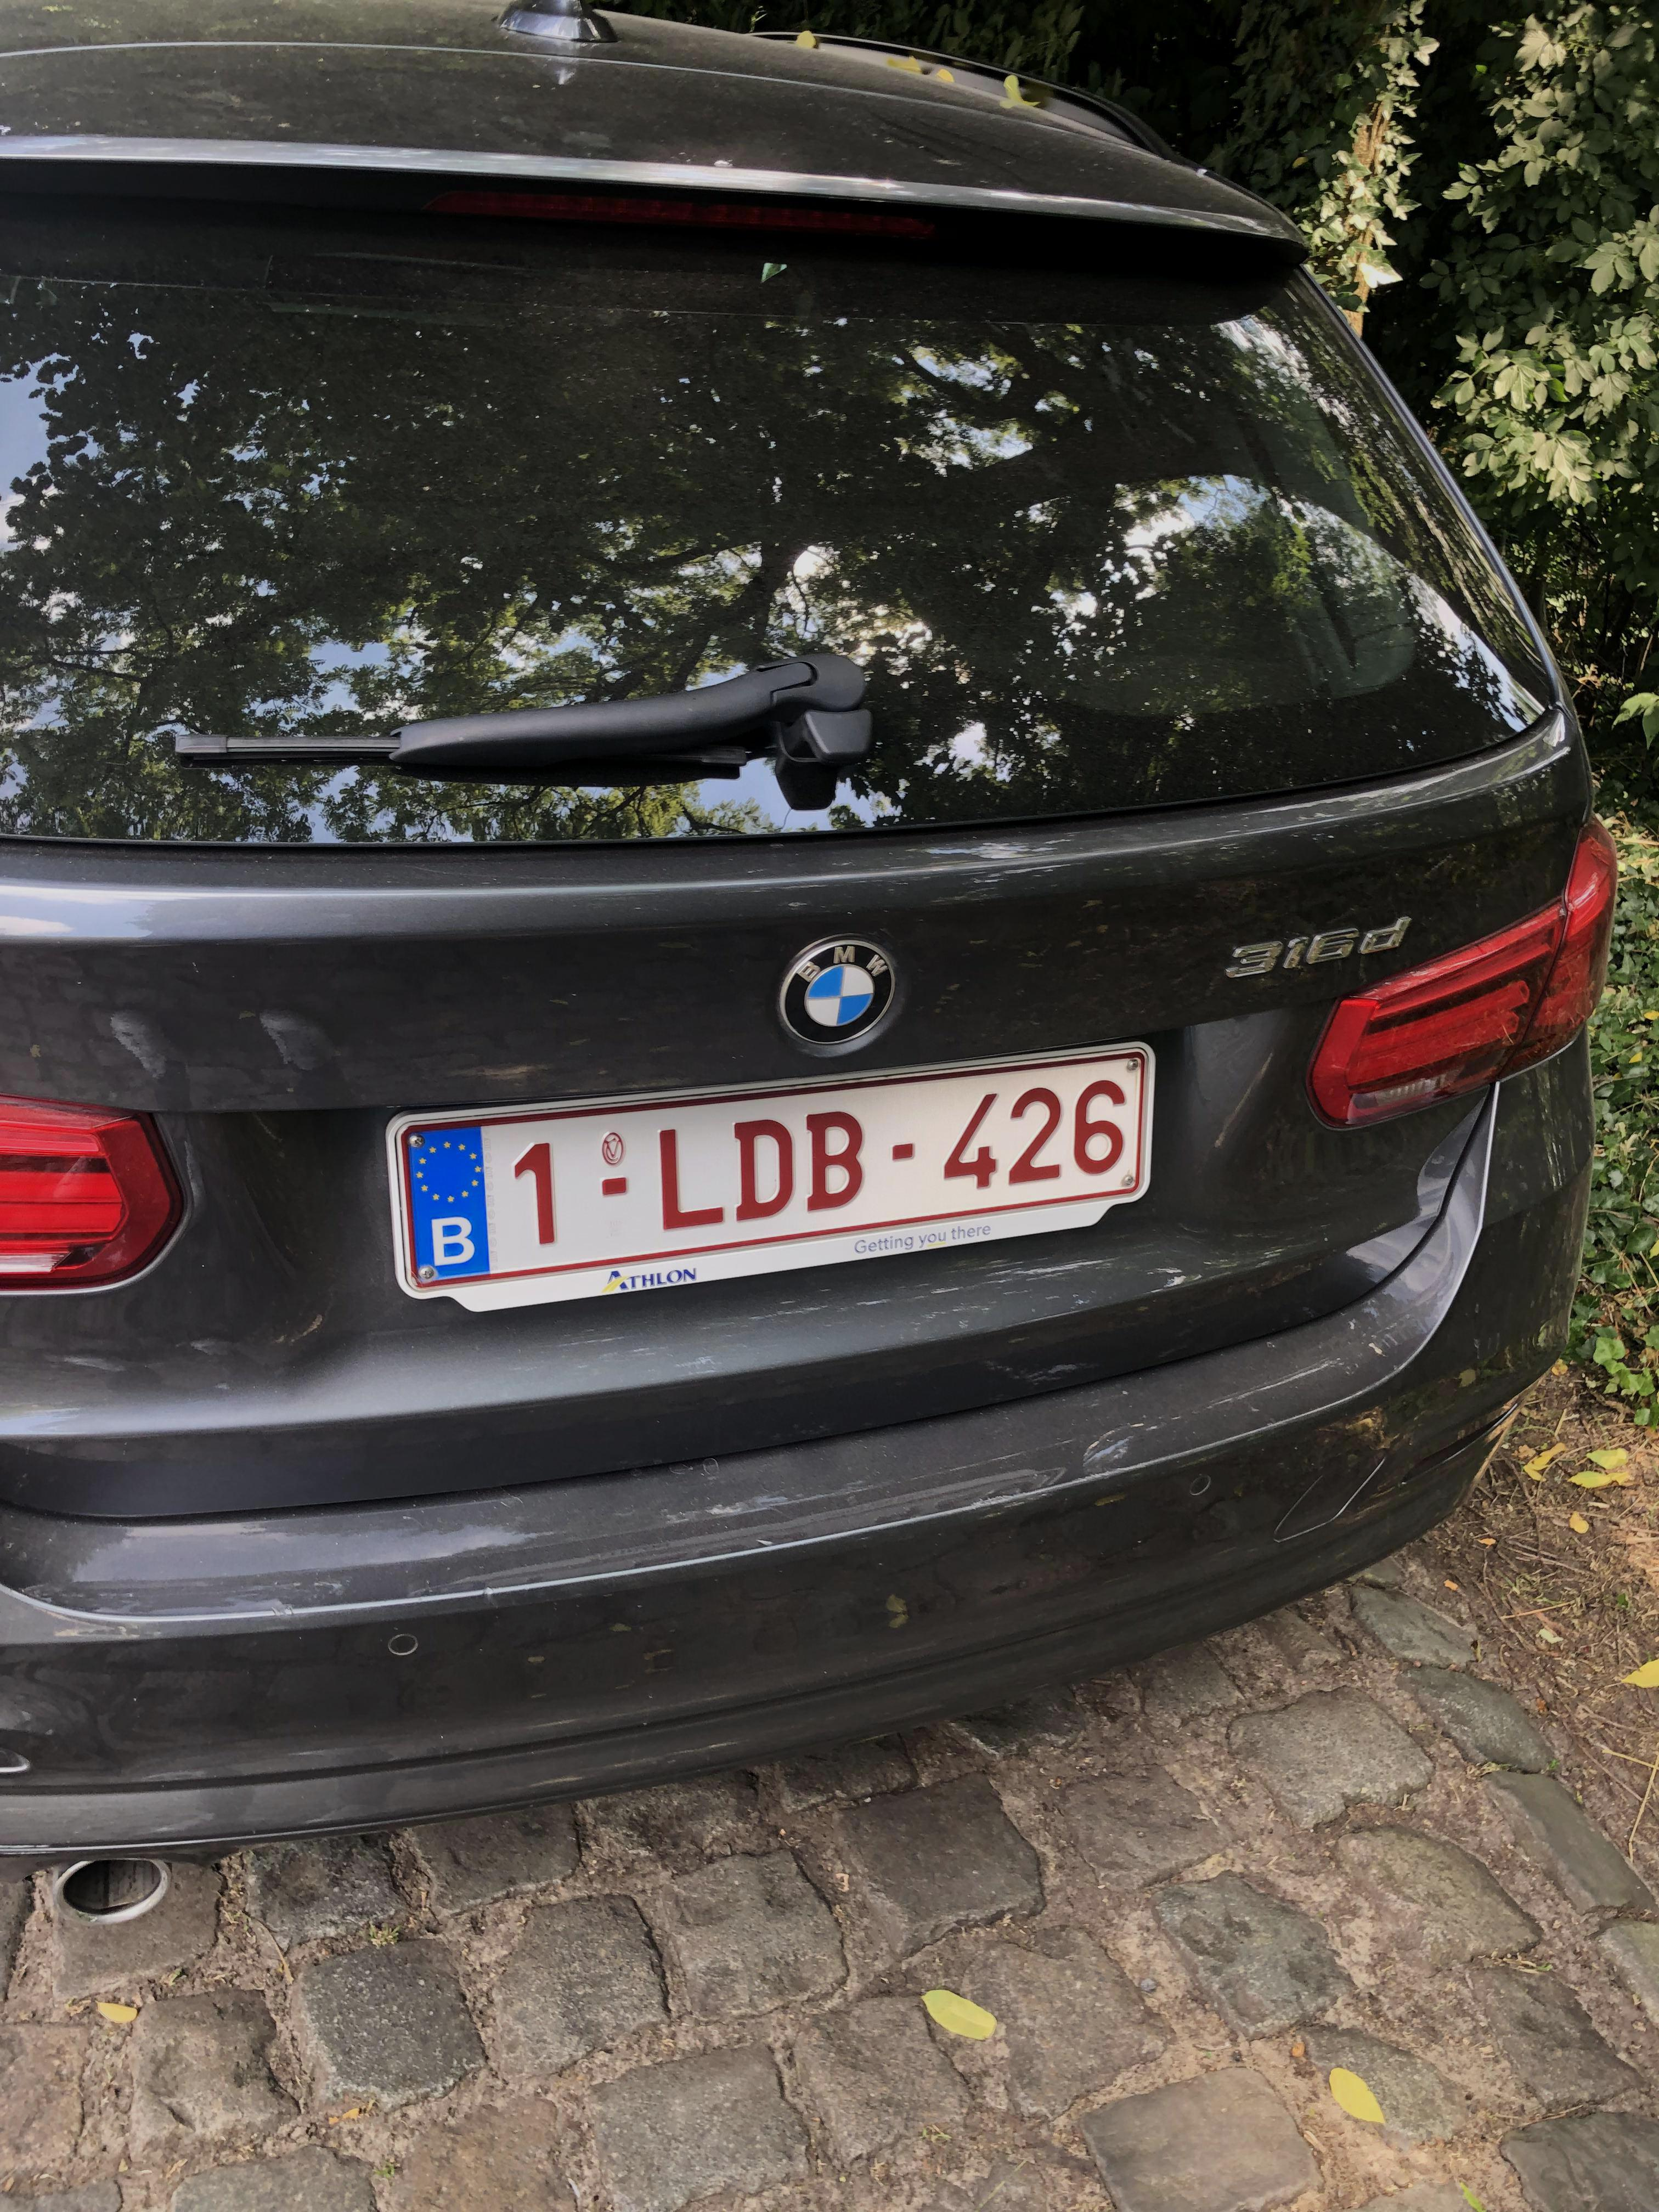plate: (357, 1025, 1171, 1306)
